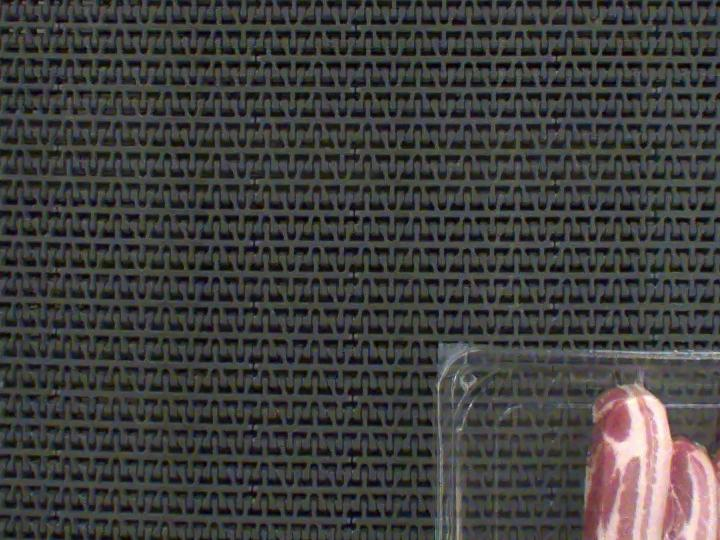packaging-error: (608, 358, 654, 397)
